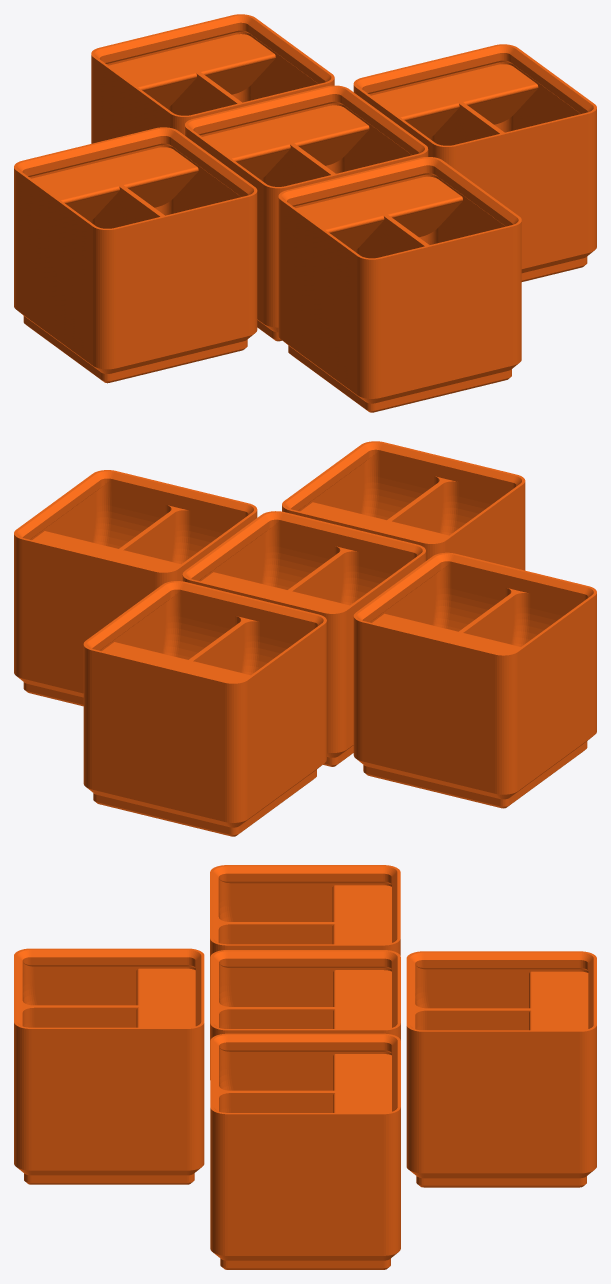
Rendered from Gridfinity1x1x5.glb.
3 renders of one model, top to bottom at view 1: azimuth 30°, elevation 25°; view 2: azimuth 150°, elevation 25°; view 3: azimuth 270°, elevation 25°, orthographic.
Visible parts, largest first — view 1: 3MF Object.003, 3MF Object.004, 3MF Object.005, 3MF Object.002, 3MF Object; view 2: 3MF Object.003, 3MF Object.002, 3MF Object.005, 3MF Object, 3MF Object.004; view 3: 3MF Object.004, 3MF Object.002, 3MF Object.005, 3MF Object.003, 3MF Object.
Part boxes in pixels (x1,y1,x2,y2): 3MF Object.003: (14, 127, 257, 383); 3MF Object.004: (278, 157, 521, 412); 3MF Object.005: (353, 44, 596, 281); 3MF Object.002: (91, 14, 334, 143); 3MF Object: (185, 85, 428, 341); 3MF Object.003: (353, 552, 596, 808); 3MF Object.002: (83, 581, 326, 836); 3MF Object.005: (14, 470, 257, 706); 3MF Object: (182, 511, 425, 766); 3MF Object.004: (282, 441, 525, 570); 3MF Object.004: (14, 948, 204, 1184); 3MF Object.002: (406, 951, 596, 1187); 3MF Object.005: (210, 1033, 400, 1269); 3MF Object.003: (210, 865, 400, 1079); 3MF Object: (210, 950, 400, 1040).
Size of the model in its own units: 6.42 by 1.94 by 6.35.
